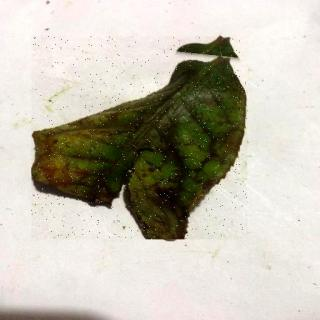Red Leaf Spot: (33, 38, 249, 241)
